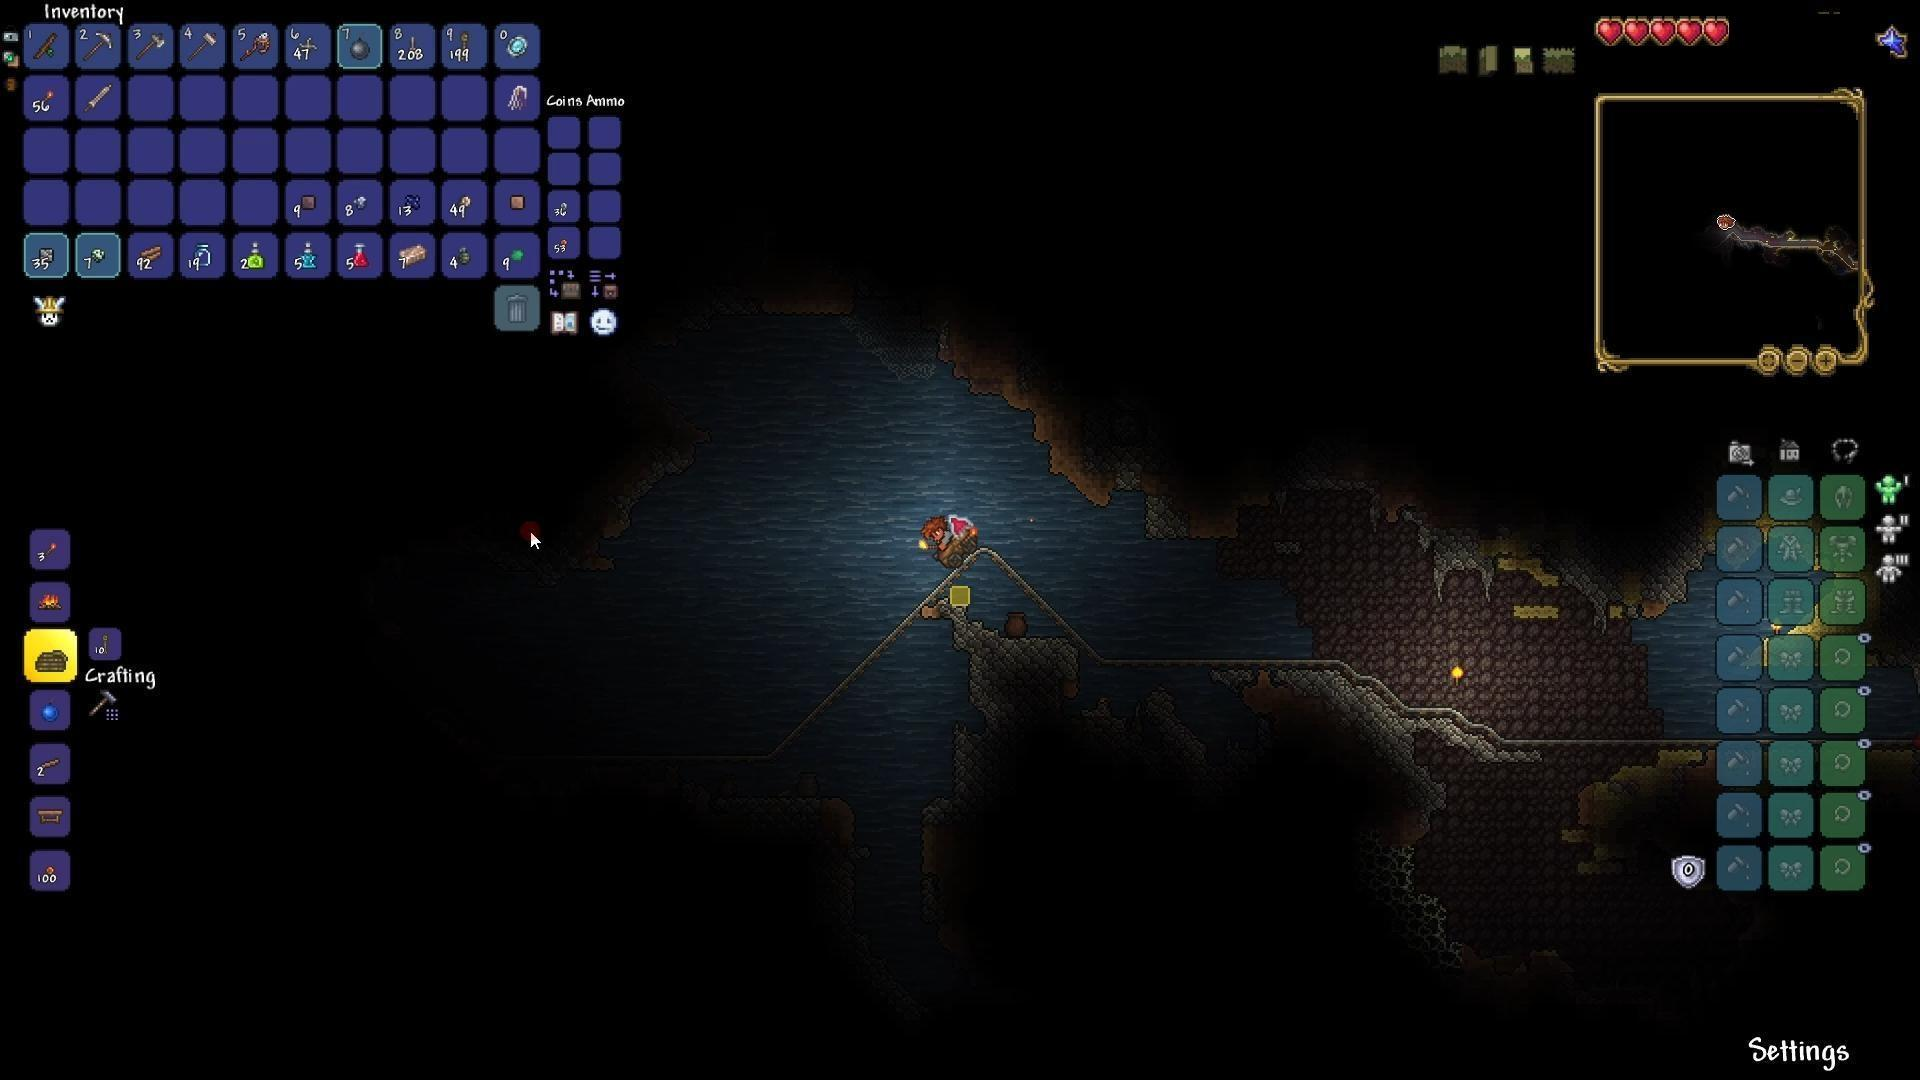heart: (1702, 17, 1733, 51), (1593, 16, 1626, 46), (1676, 15, 1704, 50), (1650, 16, 1676, 49), (1625, 15, 1651, 44)
stone: (923, 596, 1075, 719), (1275, 662, 1420, 752), (1545, 541, 1702, 618), (1423, 716, 1552, 764), (1418, 520, 1485, 600), (1137, 502, 1211, 541)
